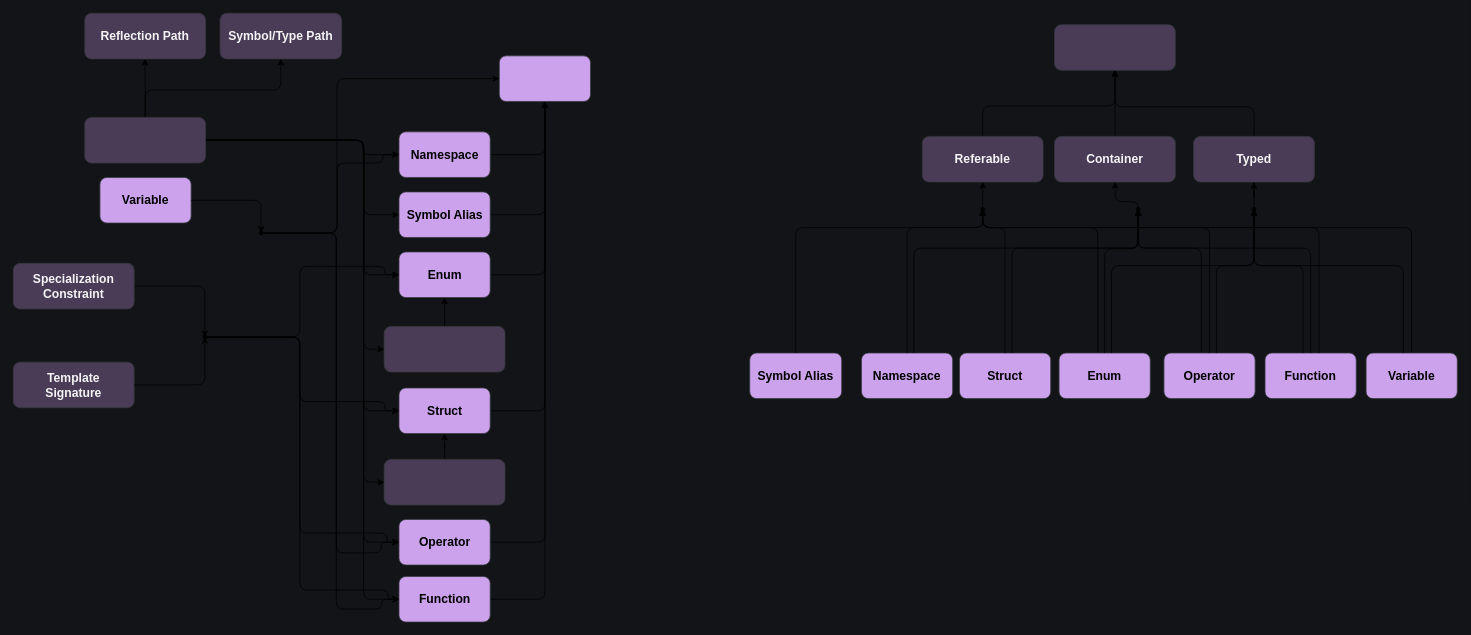
Some shapes in this 1471 by 635 pixel diagram are drawn without their labels. Each missing label, with the centre of its shape:
"Base" goes at pixel 1114 47.
"Enum Element" goes at pixel 444 349.
"Identifier" goes at pixel 145 140.
"Module" goes at pixel 545 78.
"Struct Element" goes at pixel 444 482.
